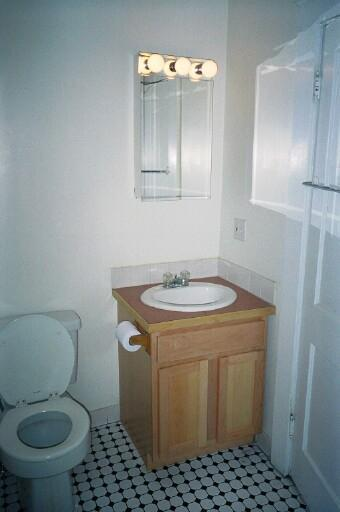Sanitario: (5, 312, 91, 510)
